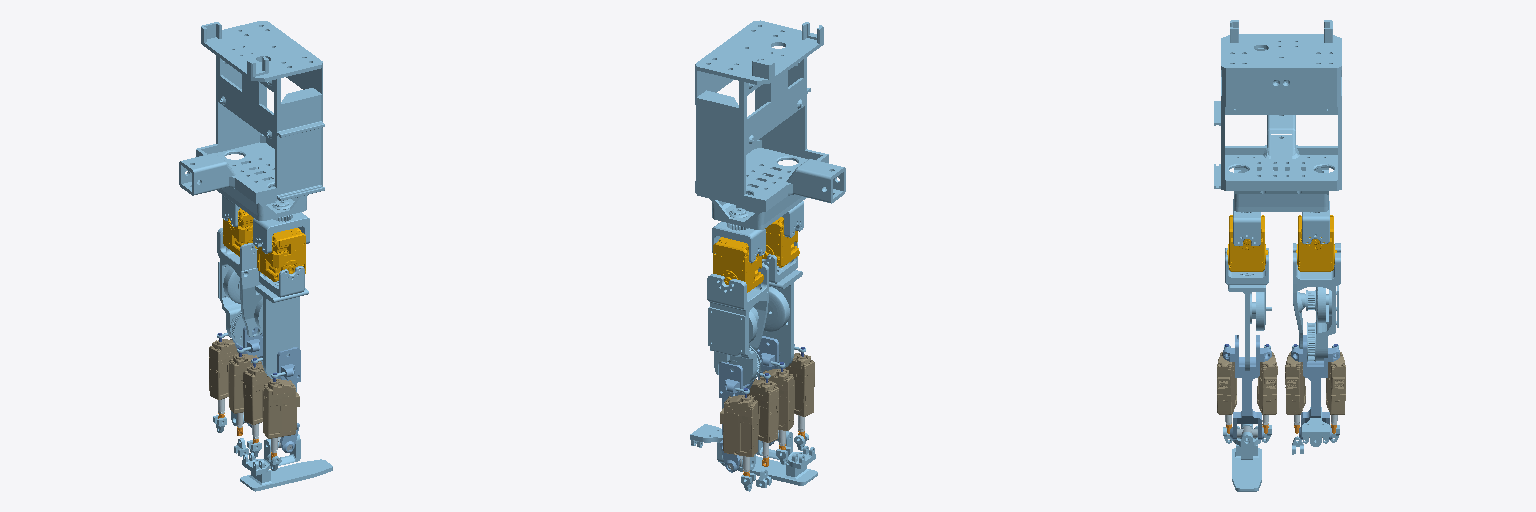
--- What the picture shows (computed from the rendered views, not written in the file) ---
3 views of the same robot in one strip: view 1: azimuth 30°, elevation 25°; view 2: azimuth 150°, elevation 25°; view 3: azimuth 270°, elevation 25° (orthographic).
Model toddlerbot_legs with 37 links and 36 joints (12 revolute, 24 fixed), rooted at body_link, posed all joints at 0.
Links seen in each view (by area): view 1: body_link, right_hip_pitch_link, left_hip_pitch_link, ank_roll_link_2, 12lf_4, hip_roll_link_2, 12lf, 12lf_3, hip_yaw_link_2, right_calf_link, 12lf_2, hip_roll_link; view 2: body_link, left_hip_pitch_link, right_hip_pitch_link, 12lf, hip_roll_link, ank_roll_link_2, 12lf_2, 12lf_4, left_calf_link, hip_roll_link_2, 12lf_3, hip_yaw_link (+3 smaller); view 3: body_link, left_hip_pitch_link, right_hip_pitch_link, right_calf_link, ank_roll_link_2, left_calf_link, hip_roll_link, hip_roll_link_2, 12lf_4, 12lf_2, 12lf, 12lf_3 (+3 smaller).
Link boxes in pixels (x1,y1,x2,y2): body_link: (179, 21, 324, 221); right_hip_pitch_link: (254, 266, 308, 378); left_hip_pitch_link: (217, 228, 262, 345); ank_roll_link_2: (240, 434, 332, 491); 12lf_4: (263, 379, 299, 438); hip_roll_link_2: (257, 228, 305, 281); 12lf: (209, 339, 238, 399); 12lf_3: (243, 364, 272, 424); hip_yaw_link_2: (253, 212, 309, 253); right_calf_link: (262, 347, 300, 452); 12lf_2: (229, 354, 261, 413); hip_roll_link: (223, 208, 256, 256); body_link: (695, 20, 845, 230); left_hip_pitch_link: (707, 264, 768, 385); right_hip_pitch_link: (762, 242, 802, 368); 12lf: (720, 395, 757, 456); hip_roll_link: (713, 237, 763, 292); ank_roll_link_2: (721, 431, 817, 485); 12lf_2: (747, 379, 778, 442); 12lf_4: (785, 353, 814, 416); left_calf_link: (719, 362, 753, 472); hip_roll_link_2: (762, 217, 799, 267); 12lf_3: (760, 369, 793, 430); hip_yaw_link: (712, 221, 765, 262); body_link: (1214, 20, 1341, 212); left_hip_pitch_link: (1293, 243, 1340, 361); right_hip_pitch_link: (1225, 248, 1271, 370); right_calf_link: (1223, 335, 1271, 439); ank_roll_link_2: (1232, 424, 1261, 491); left_calf_link: (1291, 335, 1339, 439); hip_roll_link: (1296, 215, 1336, 271); hip_roll_link_2: (1227, 215, 1267, 271); 12lf_4: (1217, 352, 1236, 414); 12lf_2: (1285, 352, 1305, 414); 12lf: (1326, 352, 1345, 414); 12lf_3: (1257, 352, 1277, 414).
Bounding box of the posed robot: 0.1434 × 0.1313 × 0.4708 m (x, y, z).
Meshes: 37 distinct files referenced, 37 mesh visuals loaded (37 binary STL).

robot.urdf — toddlerbot_legs:
<robot name="toddlerbot_legs">
  <mujoco>
    <compiler strippath="false" balanceinertia="true" discardvisual="false" />
  </mujoco>
  <link name="body_link">
    <visual>
      <origin xyz="0 0 0" rpy="0 -0 0" />
      <geometry>
        <mesh filename="../assemblies/no_body/meshes/body_link_visual.stl" />
      </geometry>
      <material name="body_link_material">
        <color rgba="0.61397237829351869465 0.80332498114502748354 0.91540927344620071082 1.0" />
      </material>
    </visual>
    <collision>
      <origin xyz="0 0 0" rpy="0 -0 0" />
      <geometry>
        <mesh filename="collisions/body_link_collision.stl" />
      </geometry>
    </collision>
    <inertial>
      <origin xyz="-0.01499364327886279491 -0.00061666227763491530088 0.37865534467571948518" rpy="0 0 0" />
      <mass value="1.0086534506317459403" />
      <inertia ixx="0.0046858218276694544105" ixy="9.5066545070522087891e-06" ixz="-0.00033041186495409415264" iyy="0.0039734105446477419737" iyz="-2.4960818033478732468e-05" izz="0.0024171325638287608113" />
    </inertial>
  </link>

  <joint name="left_hip_yaw" type="revolute">
    <origin xyz="-0.0093999999999961926511 0.033999999999999301614 0.28500000000000003109" rpy="9.5014891068790173158e-14 -1.7824800733959379972e-14 -7.7962407392327512346e-15" />
    <parent link="body_link" />
    <child link="hip_yaw_link" />
    <axis xyz="0 0 1" />
    <limit effort="10" velocity="20" lower="-0.785398163397448279" upper="0.785398163397448279" />
    <dynamics damping="0.967" friction="0.1386" />
  </joint>

  <joint name="right_hip_yaw" type="revolute">
    <origin xyz="-0.009399999999996381736 -0.034000000000000807354 0.28499999999999969802" rpy="9.1462148145194911492e-14 -1.7824800733940560906e-14 -2.1356041234847096424e-13" />
    <parent link="body_link" />
    <child link="hip_yaw_link_2" />
    <axis xyz="0 0 1" />
    <limit effort="10" velocity="20" lower="-0.785398163397448279" upper="0.785398163397448279" />
    <dynamics damping="0.967" friction="0.1386" />
  </joint>


  <link name="hip_yaw_link">
    <visual>
      <origin xyz="0 0 0" rpy="0 -0 0" />
      <geometry>
        <mesh filename="../assemblies/left_3R+RH5_leg/meshes/left_hip_yaw_link_visual.stl" />
      </geometry>
      <material name="hip_yaw_link_material">
        <color rgba="0.61568627450980395466 0.81176470588235294379 0.9294117647058824927 1.0" />
      </material>
    </visual>
    <inertial>
      <origin xyz="1.10948197233704379e-18 -1.4747449291869228925e-20 -0.0098390489054830162358" rpy="0 0 0" />
      <mass value="0.0090258837370979227988" />
      <inertia ixx="1.3230458239086465149e-06" ixy="-3.3592249637948231893e-24" ixz="-1.1251788840973426872e-52" iyy="3.8408510960331422723e-06" iyz="2.3044956050358332095e-34" izz="3.8721396285793907821e-06" />
    </inertial>
  </link>

  <link name="hip_roll_link">
    <visual>
      <origin xyz="0 0 0" rpy="0 -0 0" />
      <geometry>
        <mesh filename="../assemblies/left_3R+RH5_leg/meshes/left_hip_roll_link_visual.stl" />
      </geometry>
      <material name="hip_roll_link_material">
        <color rgba="0.95018735644455876166 0.70678927200428409705 0.06161207940259672694 1.0" />
      </material>
    </visual>
    <collision>
      <origin xyz="0 0 0" rpy="0 -0 0" />
      <geometry>
        <mesh filename="collisions/left_hip_roll_link_collision.stl" />
      </geometry>
    </collision>
    <inertial>
      <origin xyz="-0.011999849582183506197 -0.0004959809079445483531 -0.018504111838591498496" rpy="0 0 0" />
      <mass value="0.098012391483528651936" />
      <inertia ixx="2.0221748766305362103e-05" ixy="-4.1225592188065617198e-08" ixz="-4.1552068246469907337e-08" iyy="2.735806952472204714e-05" iyz="-5.0935731752410196502e-07" izz="2.735809995830597023e-05" />
    </inertial>
  </link>

  <link name="left_hip_pitch_link">
    <visual>
      <origin xyz="0 0 0" rpy="0 -0 0" />
      <geometry>
        <mesh filename="../assemblies/left_3R+RH5_leg/meshes/left_hip_pitch_link_visual.stl" />
      </geometry>
      <material name="left_hip_pitch_link_material">
        <color rgba="0.6165406003152082981 0.80727949540398069583 0.92172283245724406786 1.0" />
      </material>
    </visual>
    <collision>
      <origin xyz="0 0 0" rpy="0 -0 0" />
      <geometry>
        <mesh filename="collisions/left_hip_pitch_link_collision.stl" />
      </geometry>
    </collision>
    <inertial>
      <origin xyz="-0.00021920258110594894327 0.05286719657360781921 0.014675228964508648527" rpy="0 0 0" />
      <mass value="0.093611654200831312389" />
      <inertia ixx="6.2575071270170513796e-05" ixy="4.2811371494834821184e-07" ixz="-1.5082939311367743614e-07" iyy="2.1582115763274171131e-05" iyz="-1.4343483800239936136e-06" izz="6.2291646982280619903e-05" />
    </inertial>
  </link>

  <link name="left_calf_link">
    <visual>
      <origin xyz="0 0 0" rpy="0 -0 0" />
      <geometry>
        <mesh filename="../assemblies/left_3R+RH5_leg/meshes/left_calf_link_visual.stl" />
      </geometry>
      <material name="left_calf_link_material">
        <color rgba="0.5518539491644144368 0.72972232177803997288 0.87665656864243635127 1.0" />
      </material>
    </visual>
    <collision>
      <origin xyz="0 0 0" rpy="0 -0 0" />
      <geometry>
        <mesh filename="collisions/left_calf_link_collision.stl" />
      </geometry>
    </collision>
    <inertial>
      <origin xyz="-0.0038993024960581375987 -0.042419338531024676497 0.0081864888082305280886" rpy="0 0 0" />
      <mass value="0.015782434194230747504" />
      <inertia ixx="1.4745030589956152988e-05" ixy="-2.0221927128075060177e-07" ixz="8.9866943649239635101e-09" iyy="1.8970750490643131249e-06" iyz="1.7803237244175249917e-08" izz="1.4045051134993881761e-05" />
    </inertial>
  </link>

  <link name="ank_pitch_link">
    <visual>
      <origin xyz="0 0 0" rpy="0 -0 0" />
      <geometry>
        <mesh filename="../assemblies/left_3R+RH5_leg/meshes/left_ank_pitch_link_visual.stl" />
      </geometry>
      <material name="ank_pitch_link_material">
        <color rgba="0.63189161126160275916 0.72668668793540891482 0.78356373393969258601 1.0" />
      </material>
    </visual>
    <inertial>
      <origin xyz="4.026968510017828702e-08 0.00059528282566723481582 -0.014599922383890413802" rpy="0 0 0" />
      <mass value="0.0042238381753791605713" />
      <inertia ixx="4.370525406739006983e-07" ixy="1.6834347249770690916e-13" ixz="1.642882239843461889e-12" iyy="3.9782741364650800388e-07" iyz="2.091924400200778153e-14" izz="8.8858574534559480418e-08" />
    </inertial>
  </link>

  <link name="ank_roll_link">
    <visual>
      <origin xyz="0 0 0" rpy="0 -0 0" />
      <geometry>
        <mesh filename="../assemblies/left_3R+RH5_leg/meshes/left_ank_roll_link_visual.stl" />
      </geometry>
      <material name="ank_roll_link_material">
        <color rgba="0.61568627450980395466 0.81176470588235294379 0.92941176470588238168 1.0" />
      </material>
    </visual>
    <collision>
      <origin xyz="0 0 0" rpy="0 -0 0" />
      <geometry>
        <mesh filename="../assemblies/left_3R+RH5_leg/meshes/left_ank_roll_link_collision.stl" />
      </geometry>
    </collision>
    <inertial>
      <origin xyz="-3.2802577105233733705e-07 0.028922633965180369331 0.0017500478240274539282" rpy="0 0 0" />
      <mass value="0.013974994209528749517" />
      <inertia ixx="1.0212114188424671225e-05" ixy="2.6491564884490763232e-11" ixz="-3.3865984334665517738e-11" iyy="9.7374672793563848158e-06" iyz="-1.1464163905345513743e-06" izz="2.7373100775715029295e-06" />
    </inertial>
  </link>

  <link name="ank_rr_link">
    <visual>
      <origin xyz="0 0 0" rpy="0 -0 0" />
      <geometry>
        <mesh filename="../assemblies/left_3R+RH5_leg/meshes/left_ank_rr_link_visual.stl" />
      </geometry>
      <material name="ank_rr_link_material">
        <color rgba="0.61568627450980395466 0.81176470588235283277 0.92941176470588238168 1.0" />
      </material>
    </visual>
    <inertial>
      <origin xyz="3.4099664995694346149e-18 -0.0061447686137497906783 1.9876344963298898127e-19" rpy="0 0 0" />
      <mass value="0.00042507093693768156772" />
      <inertia ixx="8.7843229279236022739e-09" ixy="9.2395644930576724516e-27" ixz="-1.0879024114909492282e-14" iyy="8.0301730481463886798e-09" iyz="1.2159468208298068424e-33" izz="1.2504379836120061674e-08" />
    </inertial>
  </link>

  <link name="12lf_rod_end">
    <visual>
      <origin xyz="0 0 0" rpy="0 -0 0" />
      <geometry>
        <mesh filename="../assemblies/left_3R+RH5_leg/meshes/left_12lf_rod_end_visual.stl" />
      </geometry>
      <material name="12lf_rod_end_material">
        <color rgba="0.92771758928836534075 0.61049283053223002415 0.2184765849058516729 1.0" />
      </material>
    </visual>
    <inertial>
      <origin xyz="-4.4735197461788878331e-11 -0.0038422185938245751249 6.4384187209446181173e-06" rpy="0 0 0" />
      <mass value="0.00085420491177815905965" />
      <inertia ixx="1.1840985264406837025e-08" ixy="2.0225977863212776003e-16" ixz="-9.2606419976881419213e-16" iyy="3.3549621576797694134e-09" iyz="7.4535631381847453943e-12" izz="1.2703522254420009704e-08" />
    </inertial>
  </link>

  <joint name="left_ank_R21" type="fixed">
    <origin xyz="6.9388939039072283776e-18 -0.0099999999999999533706 0" rpy="1.5707963267999907053 -1.5664147454868477816 -1.5707963267999944801" />
    <parent link="ank_rr_link" />
    <child link="12lf_rod_end" />
    <axis xyz="0 0 1" />
    <limit effort="10" velocity="20" lower="-1.570796326794896558" upper="1.570796326794896558" />
  </joint>

  <joint name="left_ank_R11" type="fixed">
    <origin xyz="-0.018000000000000009048 0.015999999999999986455 -0.020599999999999996786" rpy="7.372266899210394361e-15 1.2457991987000034509e-14 -0.018779262484739548539" />
    <parent link="ank_roll_link" />
    <child link="ank_rr_link" />
    <axis xyz="0 0 1" />
    <limit effort="10" velocity="20" lower="-1.570796326794896558" upper="1.570796326794896558" />
  </joint>

  <link name="ank_rr_link_2">
    <visual>
      <origin xyz="0 0 0" rpy="0 -0 0" />
      <geometry>
        <mesh filename="../assemblies/left_3R+RH5_leg/meshes/left_ank_rr_link_2_visual.stl" />
      </geometry>
      <material name="ank_rr_link_2_material">
        <color rgba="0.61568627450980395466 0.81176470588235283277 0.92941176470588238168 1.0" />
      </material>
    </visual>
    <inertial>
      <origin xyz="-5.2731046575155459729e-20 -0.0061447686137497915457 1.9876344963294454044e-19" rpy="0 0 0" />
      <mass value="0.00042507093693768156772" />
      <inertia ixx="8.7843229279236022739e-09" ixy="-1.9930731724410727403e-26" ixz="-1.0879024114909492282e-14" iyy="8.0301730481463919886e-09" iyz="2.6418116530504380233e-32" izz="1.2504379836120061674e-08" />
    </inertial>
  </link>

  <link name="12lf_rod_end_2">
    <visual>
      <origin xyz="0 0 0" rpy="0 -0 0" />
      <geometry>
        <mesh filename="../assemblies/left_3R+RH5_leg/meshes/left_12lf_rod_end_2_visual.stl" />
      </geometry>
      <material name="12lf_rod_end_2_material">
        <color rgba="0.92771758928836534075 0.61049283053223002415 0.2184765849058516729 1.0" />
      </material>
    </visual>
    <inertial>
      <origin xyz="-4.4735200137138648835e-11 -0.0038422185938246011458 6.4384187209440810984e-06" rpy="0 0 0" />
      <mass value="0.00085420491177815905965" />
      <inertia ixx="1.1840985264406790703e-08" ixy="2.022597794602806683e-16" ixz="-9.2606419945989251455e-16" iyy="3.3549621576797272272e-09" iyz="7.4535631381828438483e-12" izz="1.2703522254419978271e-08" />
    </inertial>
  </link>

  <joint name="left_ank_R22" type="fixed">
    <origin xyz="-3.4694469519536141888e-18 -0.0099999999999999533706 6.9388939039072283776e-18" rpy="-1.570796326795200093 -1.5664376509758415335 1.5707963267972691046" />
    <parent link="ank_rr_link_2" />
    <child link="12lf_rod_end_2" />
    <axis xyz="0 0 1" />
    <limit effort="10" velocity="20" lower="-1.570796326794896558" upper="1.570796326794896558" />
  </joint>

  <joint name="left_ank_R12" type="fixed">
    <origin xyz="0.017999999999999991701 0.015999999999999986455 -0.020600000000000003725" rpy="3.1415926535897837901 5.7200784449866098119e-15 -3.1229304365178514047" />
    <parent link="ank_roll_link" />
    <child link="ank_rr_link_2" />
    <axis xyz="0 0 1" />
    <limit effort="10" velocity="20" lower="-1.570796326794896558" upper="1.570796326794896558" />
  </joint>

  <joint name="left_ank_roll" type="revolute">
    <origin xyz="3.0808688933348093997e-15 0.00150000000000412065 -0.014599999999997594069" rpy="-1.5707963267949904829 -1.5707963267947890884 0" />
    <parent link="ank_pitch_link" />
    <child link="ank_roll_link" />
    <axis xyz="0 0 1" />
    <limit effort="10" velocity="20" lower="-0.785398163397448279" upper="0.785398163397448279" />
    <dynamics damping="0.583" />
  </joint>

  <joint name="left_ank_pitch" type="revolute">
    <origin xyz="9.1041832417877273971e-19 -0.099999999999999977796 -0.0062000000000000006495" rpy="3.1415926535897913396 3.2973623831365823964e-14 -1.5707963267949118791" />
    <parent link="left_calf_link" />
    <child link="ank_pitch_link" />
    <axis xyz="0 0 1" />
    <limit effort="10" velocity="20" lower="-0.785398163397448279" upper="0.95993108859688125456" />
    <dynamics damping="0.523" />
  </joint>

  <link name="ball_joint_container">
    <visual>
      <origin xyz="0 0 0" rpy="0 -0 0" />
      <geometry>
        <mesh filename="../assemblies/left_3R+RH5_leg/meshes/left_ball_joint_container_visual.stl" />
      </geometry>
      <material name="ball_joint_container_material">
        <color rgba="0.61568627450980395466 0.81176470588235294379 0.9294117647058824927 1.0" />
      </material>
    </visual>
    <inertial>
      <origin xyz="4.722144297570993535e-19 -1.3170636881708645367e-19 -0.0097125341669083396778" rpy="0 0 0" />
      <mass value="4.8037356425330562243e-05" />
      <inertia ixx="7.1865480628741666366e-10" ixy="1.5073670243190848269e-27" ixz="-1.2986299746004074171e-40" iyy="8.475420427718555978e-10" iyz="8.2465578470855891955e-39" izz="1.8625314111651911712e-10" />
    </inertial>
  </link>

  <link name="ball_joint_ball">
    <visual>
      <origin xyz="0 0 0" rpy="0 -0 0" />
      <geometry>
        <mesh filename="../assemblies/left_3R+RH5_leg/meshes/left_ball_joint_ball_visual.stl" />
      </geometry>
      <material name="ball_joint_ball_material">
        <color rgba="0.3291302810242056065 0.44310466418644928188 0.69204871161977121741 1.0" />
      </material>
    </visual>
    <inertial>
      <origin xyz="-1.6430372793130515128e-19 -0.0010308669810015407085 -4.0999987757038908845e-18" rpy="0 0 0" />
      <mass value="4.4053796295264630609e-05" />
      <inertia ixx="3.1285011349691274394e-10" ixy="-2.0899298178486533495e-27" ixz="-8.5615105329201482222e-27" iyy="6.2569568612793382078e-11" iyz="8.404326343174790715e-25" izz="3.1285321460374022494e-10" />
    </inertial>
  </link>

  <link name="12lf">
    <visual>
      <origin xyz="0 0 0" rpy="0 -0 0" />
      <geometry>
        <mesh filename="../assemblies/left_3R+RH5_leg/meshes/left_12lf_visual.stl" />
      </geometry>
      <material name="12lf_material">
        <color rgba="0.62004392100736027693 0.58836684613512635345 0.49897069021535683797 1.0" />
      </material>
    </visual>
    <inertial>
      <origin xyz="0.0049084207243738318949 -0.00013802439943632547866 -0.029947003577167913974" rpy="0 0 0" />
      <mass value="0.044782197696050358993" />
      <inertia ixx="1.5260128421328397519e-05" ixy="2.2955773687010726143e-08" ixz="-8.1364204004619861992e-08" iyy="1.818846977897047769e-05" iyz="-5.5542240843365280421e-08" izz="5.1496273901771792196e-06" />
    </inertial>
  </link>

  <link name="12lf_rod">
    <visual>
      <origin xyz="0 0 0" rpy="0 -0 0" />
      <geometry>
        <mesh filename="../assemblies/left_3R+RH5_leg/meshes/left_12lf_rod_visual.stl" />
      </geometry>
      <material name="12lf_rod_material">
        <color rgba="0.80250260812861884396 0.89340612183512713163 0.94491811293548189088 1.0" />
      </material>
    </visual>
    <inertial>
      <origin xyz="-6.3222084039857236818e-07 4.6933255243327257339e-07 -0.012893387334326454619" rpy="0 0 0" />
      <mass value="0.0025088292483592144512" />
      <inertia ixx="2.6944521128634527092e-07" ixy="7.1389570232101606794e-15" ixz="1.3562243134670508323e-11" iyy="2.6944520001691072088e-07" iyz="-1.0089988404311650457e-11" izz="1.7809843599861018872e-08" />
    </inertial>
  </link>

  <joint name="left_ank_act1" type="fixed">
    <origin xyz="2.272209352376791669e-06 3.4694469519536141888e-16 -0.074779998095385435963" rpy="-3.1415926535896594451 8.836582611277305623e-14 -2.2021168238262687211" />
    <parent link="12lf" />
    <child link="12lf_rod" />
    <axis xyz="0 0 1" />
    <limit effort="10" velocity="20" lower="0" upper="0.040000000000000000833" />
  </joint>

  <joint name="left_ank_B31" type="fixed">
    <origin xyz="3.4694469519536141888e-18 -0.0064387505004001588382 -2.0816681711721685133e-17" rpy="-1.5707963267948947816 0.16913440034089716191 -5.6137304953543511113e-16" />
    <parent link="ball_joint_ball" />
    <child link="12lf" />
    <axis xyz="0 0 1" />
    <limit effort="10" velocity="20" lower="-0.785398163397448279" upper="0.785398163397448279" />
  </joint>

  <joint name="left_ank_B21" type="fixed">
    <origin xyz="-2.3592239273284576484e-16 0 -0.011499999999999998071" rpy="-1.5707963267921956074 -1.5664147454872743292 -1.5707963267976534638" />
    <parent link="ball_joint_container" />
    <child link="ball_joint_ball" />
    <axis xyz="0 0 1" />
    <limit effort="10" velocity="20" lower="-0.785398163397448279" upper="0.785398163397448279" />
  </joint>

  <joint name="left_ank_B11" type="fixed">
    <origin xyz="0.0080000000000000140443 -0.015000000000000041078 0.028299999999999991829" rpy="-1.570796326794896558 1.5520170643096702356 1.5707963267949236474" />
    <parent link="left_calf_link" />
    <child link="ball_joint_container" />
    <axis xyz="0 0 1" />
    <limit effort="10" velocity="20" lower="-0.785398163397448279" upper="0.785398163397448279" />
  </joint>

  <link name="ball_joint_container_2">
    <visual>
      <origin xyz="0 0 0" rpy="0 -0 0" />
      <geometry>
        <mesh filename="../assemblies/left_3R+RH5_leg/meshes/left_ball_joint_container_2_visual.stl" />
      </geometry>
      <material name="ball_joint_container_2_material">
        <color rgba="0.61568627450980395466 0.81176470588235294379 0.9294117647058824927 1.0" />
      </material>
    </visual>
    <inertial>
      <origin xyz="4.7221442975709848683e-19 -5.5642857600074875847e-17 -0.0097125341669083431473" rpy="0 0 0" />
      <mass value="4.8037356425330562243e-05" />
      <inertia ixx="7.1865480628741666366e-10" ixy="4.5696914826368578443e-27" ixz="-1.4147572309371857382e-40" iyy="8.475420427718555978e-10" iyz="-1.9747038838995359871e-38" izz="1.8625314111651911712e-10" />
    </inertial>
  </link>

  <link name="ball_joint_ball_2">
    <visual>
      <origin xyz="0 0 0" rpy="0 -0 0" />
      <geometry>
        <mesh filename="../assemblies/left_3R+RH5_leg/meshes/left_ball_joint_ball_2_visual.stl" />
      </geometry>
      <material name="ball_joint_ball_2_material">
        <color rgba="0.3291302810242056065 0.44310466418644928188 0.69204871161977121741 1.0" />
      </material>
    </visual>
    <inertial>
      <origin xyz="-2.3236895893562296795e-19 -0.0010308669810016014238 6.4827775509755075537e-20" rpy="0 0 0" />
      <mass value="4.4053796295264630609e-05" />
      <inertia ixx="3.1285011349692463466e-10" ixy="1.3539051973757832705e-26" ixz="5.3959041490459282864e-30" iyy="6.2569568612795566352e-11" iyz="-1.5871332946531641882e-27" izz="3.128532146037635928e-10" />
    </inertial>
  </link>

  <link name="12lf_2">
    <visual>
      <origin xyz="0 0 0" rpy="0 -0 0" />
      <geometry>
        <mesh filename="../assemblies/left_3R+RH5_leg/meshes/left_12lf_2_visual.stl" />
      </geometry>
      <material name="12lf_2_material">
        <color rgba="0.62004392100736027693 0.58836684613512635345 0.49897069021535683797 1.0" />
      </material>
    </visual>
    <inertial>
      <origin xyz="0.0049084207243672572929 -0.00013802439943878569602 -0.029947003577168580107" rpy="0 0 0" />
      <mass value="0.044782197696050358993" />
      <inertia ixx="1.5260128421329105638e-05" ixy="2.2955773686919269746e-08" ixz="-8.1364204007394755162e-08" iyy="1.8188469778973503292e-05" iyz="-5.554224084467693741e-08" izz="5.149627390179528889e-06" />
    </inertial>
  </link>

  <link name="12lf_rod_2">
    <visual>
      <origin xyz="0 0 0" rpy="0 -0 0" />
      <geometry>
        <mesh filename="../assemblies/left_3R+RH5_leg/meshes/left_12lf_rod_2_visual.stl" />
      </geometry>
      <material name="12lf_rod_2_material">
        <color rgba="0.80250260812861884396 0.89340612183512713163 0.94491811293548189088 1.0" />
      </material>
    </visual>
    <inertial>
      <origin xyz="-6.3222083717250307532e-07 4.6933255289754562546e-07 -0.012893387334327655047" rpy="0 0 0" />
      <mass value="0.0025088292483592144512" />
      <inertia ixx="2.6944521128627830237e-07" ixy="7.1389569972798120533e-15" ixz="1.3562243038875907425e-11" iyy="2.6944520001684385821e-07" iyz="-1.0089988416517761836e-11" izz="1.7809843599861012255e-08" />
    </inertial>
  </link>

  <joint name="left_ank_act2" type="fixed">
    <origin xyz="2.2722093472628268618e-06 -8.4585116688629113924e-15 -0.074779996992748620777" rpy="-3.1415926535895000171 6.2101951664430066723e-14 -2.2021168238262793793" />
    <parent link="12lf_2" />
    <child link="12lf_rod_2" />
    <axis xyz="0 0 1" />
    <limit effort="10" velocity="20" lower="0" upper="0.040000000000000000833" />
  </joint>

  <joint name="left_ank_B32" type="fixed">
    <origin xyz="-3.4694469519536141888e-18 -0.0064387505004003808828 0" rpy="-1.570796326794896558 -0.17993145005761934652 -1.52442862826419765e-18" />
    <parent link="ball_joint_ball_2" />
    <child link="12lf_2" />
    <axis xyz="0 0 1" />
    <limit effort="10" velocity="20" lower="-0.785398163397448279" upper="0.785398163397448279" />
  </joint>

  <joint name="left_ank_B22" type="fixed">
    <origin xyz="3.4694469519536141888e-18 -1.1102230246251565404e-16 -0.01150000000000000154" rpy="-1.570796326794896558 -1.5664376509753994426 1.5707963267946438712" />
    <parent link="ball_joint_container_2" />
    <child link="ball_joint_ball_2" />
    <axis xyz="0 0 1" />
    <limit effort="10" velocity="20" lower="-0.785398163397448279" upper="0.785398163397448279" />
  </joint>

  <joint name="left_ank_B12" type="fixed">
    <origin xyz="0.0080000000000000019013 -0.014999999999999985567 -0.011499999999999999806" rpy="-1.570796326794896558 -1.5521341097218652738 1.5707963267948228392" />
    <parent link="left_calf_link" />
    <child link="ball_joint_container_2" />
    <axis xyz="0 0 1" />
    <limit effort="10" velocity="20" lower="-0.785398163397448279" upper="0.785398163397448279" />
  </joint>

  <joint name="left_knee" type="revolute">
    <origin xyz="-9.0379327827951061674e-15 0.095999999999999793832 0.027400000000001221989" rpy="3.1415926535896594451 -8.0881482058163985808e-17 -1.573475576799148449e-15" />
    <parent link="left_hip_pitch_link" />
    <child link="left_calf_link" />
    <axis xyz="0 0 1" />
    <limit effort="10" velocity="20" lower="0" upper="1.570796326794896558" />
    <dynamics damping="1.142" />
  </joint>

  <joint name="left_hip_pitch" type="revolute">
    <origin xyz="-0.024000000716140019313 -0.019000000152447748397 -0.019000000152447786561" rpy="-1.570796326794896336 1.5707963267947404606 0" />
    <parent link="hip_roll_link" />
    <child link="left_hip_pitch_link" />
    <axis xyz="0 0 1" />
    <limit effort="10" velocity="20" lower="-1.570796326794896558" upper="1.570796326794896558" />
    <dynamics damping="1.286" />
  </joint>

  <joint name="left_hip_roll" type="revolute">
    <origin xyz="0.019000000000000304839 -3.3624037938337684222e-18 -0.026000000000000279832" rpy="3.141592653589793116 -1.5707963267948858999 0" />
    <parent link="hip_yaw_link" />
    <child link="hip_roll_link" />
    <axis xyz="0 0 1" />
    <limit effort="10" velocity="20" lower="-0.785398163397448279" upper="1.570796326794896558" />
    <dynamics damping="3.122" />
  </joint>


  <link name="hip_yaw_link_2">
    <visual>
      <origin xyz="0 0 0" rpy="0 -0 0" />
      <geometry>
        <mesh filename="../assemblies/right_3R+RH5_leg/meshes/right_hip_yaw_link_visual.stl" />
      </geometry>
      <material name="hip_yaw_link_material">
        <color rgba="0.61568627450980395466 0.81176470588235294379 0.9294117647058824927 1.0" />
      </material>
    </visual>
    <inertial>
      <origin xyz="1.1094819723304576874e-18 -1.4747449291575112339e-20 -0.0098390489054829121524" rpy="0 0 0" />
      <mass value="0.0090258837370979227988" />
      <inertia ixx="1.3230458239085876461e-06" ixy="-9.6363174149195438067e-49" ixz="2.5822652061387307278e-33" iyy="3.8408510960330541809e-06" iyz="-1.4423493090974203298e-32" izz="3.8721396285793077728e-06" />
    </inertial>
  </link>

  <link name="hip_roll_link_2">
    <visual>
      <origin xyz="0 0 0" rpy="0 -0 0" />
      <geometry>
        <mesh filename="../assemblies/right_3R+RH5_leg/meshes/right_hip_roll_link_visual.stl" />
      </geometry>
      <material name="hip_roll_link_material">
        <color rgba="0.95018735644455876166 0.70678927200428409705 0.06161207940259672694 1.0" />
      </material>
    </visual>
    <collision>
      <origin xyz="0 0 0" rpy="0 -0 0" />
      <geometry>
        <mesh filename="collisions/right_hip_roll_link_collision.stl" />
      </geometry>
    </collision>
    <inertial>
      <origin xyz="-0.011999849582182727306 -0.00049598090794501390952 -0.018504111838591762174" rpy="0 0 0" />
      <mass value="0.098012391483528651936" />
      <inertia ixx="2.02217487663054773e-05" ixy="-4.1225592187651471026e-08" ixz="-4.1552068246492221361e-08" iyy="2.735806952472197599e-05" iyz="-5.0935731752407962452e-07" izz="2.7358099958306159966e-05" />
    </inertial>
  </link>

  <link name="right_hip_pitch_link">
    <visual>
      <origin xyz="0 0 0" rpy="0 -0 0" />
      <geometry>
        <mesh filename="../assemblies/right_3R+RH5_leg/meshes/right_hip_pitch_link_visual.stl" />
      </geometry>
      <material name="right_hip_pitch_link_material">
        <color rgba="0.61654060031870661085 0.8072794953856136102 0.92172283242575780982 1.0" />
      </material>
    </visual>
    <collision>
      <origin xyz="0 0 0" rpy="0 -0 0" />
      <geometry>
        <mesh filename="collisions/right_hip_pitch_link_collision.stl" />
      </geometry>
    </collision>
    <inertial>
      <origin xyz="-1.3033690427602677005e-05 -0.052867196495286906954 0.023324771095030935597" rpy="0 0 0" />
      <mass value="0.09361165381749210479" />
      <inertia ixx="6.2575072115421317281e-05" ixy="2.2341794227176792435e-07" ixz="1.1676158767092474657e-08" iyy="2.1586598259275086508e-05" iyz="-1.4343483925993869498e-06" izz="6.2296129928644748664e-05" />
    </inertial>
  </link>

  <link name="right_calf_link">
    <visual>
      <origin xyz="0 0 0" rpy="0 -0 0" />
      <geometry>
        <mesh filename="../assemblies/right_3R+RH5_leg/meshes/right_calf_link_visual.stl" />
      </geometry>
      <material name="right_calf_link_material">
        <color rgba="0.55183757703855651489 0.72973662124660387818 0.87669617832525115197 1.0" />
      </material>
    </visual>
    <collision>
      <origin xyz="0 0 0" rpy="0 -0 0" />
      <geometry>
        <mesh filename="collisions/right_calf_link_collision.stl" />
      </geometry>
    </collision>
    <inertial>
      <origin xyz="-0.0038999626430269085028 0.042409395322589235611 0.0081838728113180578966" rpy="0 0 0" />
      <mass value="0.015779725212993939848" />
      <inertia ixx="1.4735397719668421088e-05" ixy="2.0283446246059693902e-07" ixz="9.1508417303722038378e-09" iyy="1.8964180016897424611e-06" iyz="-1.5463243486048329172e-08" izz="1.4035958490016414588e-05" />
    </inertial>
  </link>

  <link name="ank_pitch_link_2">
    <visual>
      <origin xyz="0 0 0" rpy="0 -0 0" />
      <geometry>
        <mesh filename="../assemblies/right_3R+RH5_leg/meshes/right_ank_pitch_link_visual.stl" />
      </geometry>
      <material name="ank_pitch_link_material">
        <color rgba="0.63189161126160275916 0.72668668793540891482 0.78356373393969258601 1.0" />
      </material>
    </visual>
    <inertial>
      <origin xyz="4.0269686744046064311e-08 0.0005952828256677747485 -0.014599922383890096347" rpy="0 0 0" />
      <mass value="0.0042238381753791605713" />
      <inertia ixx="4.3705254067390763339e-07" ixy="1.6834347123503678247e-13" ixz="1.6428822925662319172e-12" iyy="3.9782741364654897909e-07" iyz="2.091920170560600146e-14" izz="8.8858574534525519691e-08" />
    </inertial>
  </link>

  <link name="ank_roll_link_2">
    <visual>
      <origin xyz="0 0 0" rpy="0 -0 0" />
      <geometry>
        <mesh filename="../assemblies/right_3R+RH5_leg/meshes/right_ank_roll_link_visual.stl" />
      </geometry>
      <material name="ank_roll_link_material">
        <color rgba="0.61568627450980395466 0.81176470588235305481 0.92941176470588238168 1.0" />
      </material>
    </visual>
    <collision>
      <origin xyz="0 0 0" rpy="0 -0 0" />
      <geometry>
        <mesh filename="../assemblies/right_3R+RH5_leg/meshes/right_ank_roll_link_collision.stl" />
      </geometry>
    </collision>
    <inertial>
      <origin xyz="-1.7281349848514604191e-07 0.028922633802874186948 0.0017501343014607161769" rpy="0 0 0" />
      <mass value="0.013974995537312767668" />
      <inertia ixx="1.0212111185421585496e-05" ixy="2.0476240133048706539e-11" ixz="-5.6455705812461185897e-11" iyy="9.7374705570554639e-06" iyz="-1.1464250625723700305e-06" izz="2.7373162145496292839e-06" />
    </inertial>
  </link>

  <link name="ank_rr_link_3">
    <visual>
      <origin xyz="0 0 0" rpy="0 -0 0" />
      <geometry>
        <mesh filename="../assemblies/right_3R+RH5_leg/meshes/right_ank_rr_link_visual.stl" />
      </geometry>
      <material name="ank_rr_link_material">
        <color rgba="0.61568627450980395466 0.81176470588235283277 0.92941176470588238168 1.0" />
      </material>
    </visual>
    <inertial>
      <origin xyz="-6.772719868553408757e-20 -0.0061447686137497915457 3.6682104015863762715e-18" rpy="0 0 0" />
      <mass value="0.00042507093693768156772" />
      <inertia ixx="8.7843229279236022739e-09" ixy="-1.5864380896313781037e-26" ixz="-1.0879024114909492282e-14" iyy="8.0301730481463919886e-09" iyz="4.5653393820902673925e-32" izz="1.2504379836120061674e-08" />
    </inertial>
  </link>

  <link name="12lf_rod_end_3">
    <visual>
      <origin xyz="0 0 0" rpy="0 -0 0" />
      <geometry>
        <mesh filename="../assemblies/right_3R+RH5_leg/meshes/right_12lf_rod_end_visual.stl" />
      </geometry>
      <material name="12lf_rod_end_material">
        <color rgba="0.92771758928836534075 0.61049283053223002415 0.2184765849058516729 1.0" />
      </material>
    </visual>
    <inertial>
      <origin xyz="-4.4735196695610147617e-11 -0.0038422185938245959416 6.4384187209476411779e-06" rpy="0 0 0" />
      <mass value="0.00085420491177815905965" />
      <inertia ixx="1.1840985264406750998e-08" ixy="2.0225977936654380285e-16" ixz="-9.2606419961864584135e-16" iyy="3.3549621576796866954e-09" iyz="7.4535631381826499778e-12" izz="1.2703522254419963381e-08" />
    </inertial>
  </link>

  <joint name="right_ank_R21" type="fixed">
    <origin xyz="-3.4694469519536141888e-18 -0.010000000000000008882 1.0408340855860842566e-17" rpy="1.5707963267949234254 -1.5664147454868782017 -1.5707963267941609242" />
    <parent link="ank_rr_link_3" />
    <child link="12lf_rod_end_3" />
    <axis xyz="0 0 1" />
    <limit effort="10" velocity="20" lower="-1.570796326794896558" upper="1.570796326794896558" />
  </joint>

  <joint name="right_ank_R11" type="fixed">
    <origin xyz="-0.018000000000000009048 0.015999999999999986455 -0.020599999999999996786" rpy="2.1199056220120536536e-16 1.7337184392140691041e-15 -0.018779262484772244607" />
    <parent link="ank_roll_link_2" />
    <child link="ank_rr_link_3" />
    <axis xyz="0 0 1" />
    <limit effort="10" velocity="20" lower="-1.570796326794896558" upper="1.570796326794896558" />
  </joint>

  <link name="ank_rr_link_4">
    <visual>
      <origin xyz="0 0 0" rpy="0 -0 0" />
      <geometry>
        <mesh filename="../assemblies/right_3R+RH5_leg/meshes/right_ank_rr_link_2_visual.stl" />
      </geometry>
      <material name="ank_rr_link_2_material">
        <color rgba="0.61568627450980395466 0.81176470588235283277 0.92941176470588238168 1.0" />
      </material>
    </visual>
    <inertial>
      <origin xyz="-4.2895092296414386899e-20 -0.0061447686137497360345 -3.2706835023203394236e-18" rpy="0 0 0" />
      <mass value="0.00042507093693768156772" />
      <inertia ixx="8.7843229279236022739e-09" ixy="5.711362133931313441e-27" ixz="-1.0879024114909492282e-14" iyy="8.0301730481463919886e-09" iyz="-2.1258676875356141517e-32" izz="1.2504379836120061674e-08" />
    </inertial>
  </link>

  <link name="12lf_rod_end_4">
    <visual>
      <origin xyz="0 0 0" rpy="0 -0 0" />
      <geometry>
        <mesh filename="../assemblies/right_3R+RH5_leg/meshes/right_12lf_rod_end_2_visual.stl" />
      </geometry>
      <material name="12lf_rod_end_2_material">
        <color rgba="0.92771758928836534075 0.61049283053223002415 0.2184765849058516729 1.0" />
      </material>
    </visual>
    <inertial>
      <origin xyz="-4.473519593544271936e-11 -0.0038422185938245699208 6.4384187209475590157e-06" rpy="0 0 0" />
      <mass value="0.00085420491177815905965" />
      <inertia ixx="1.1840985264406777468e-08" ixy="2.0225978027478046506e-16" ixz="-9.260641977021974134e-16" iyy="3.3549621576797024118e-09" iyz="7.4535631381828147677e-12" izz="1.2703522254419948492e-08" />
    </inertial>
  </link>

  <joint name="right_ank_R22" type="fixed">
    <origin xyz="-3.4694469519536141888e-18 -0.0099999999999998978595 1.0408340855860842566e-17" rpy="-1.570796326794896336 -1.5664376509751398725 1.5707963267966709164" />
    <parent link="ank_rr_link_4" />
    <child link="12lf_rod_end_4" />
    <axis xyz="0 0 1" />
    <limit effort="10" velocity="20" lower="-1.570796326794896558" upper="1.570796326794896558" />
  </joint>

  <joint name="right_ank_R12" type="fixed">
    <origin xyz="0.017999999999999995171 0.015999999999999930944 -0.020600000000000003725" rpy="-3.1415926535897855665 2.3670754779580369231e-15 -3.1229304365172758651" />
    <parent link="ank_roll_link_2" />
    <child link="ank_rr_link_4" />
    <axis xyz="0 0 1" />
    <limit effort="10" velocity="20" lower="-1.570796326794896558" upper="1.570796326794896558" />
  </joint>

  <joint name="right_ank_roll" type="revolute">
    <origin xyz="3.3584246494910985348e-15 0.0015000000000102613543 -0.014599999999994976371" rpy="-1.5707963267951949859 1.5707963267946882802 0" />
    <parent link="ank_pitch_link_2" />
    <child link="ank_roll_link_2" />
    <axis xyz="0 0 1" />
    <limit effort="10" velocity="20" lower="-0.785398163397448279" upper="0.785398163397448279" />
    <dynamics damping="0.583" />
  </joint>

  <joint name="right_ank_pitch" type="revolute">
    <origin xyz="1.3701363056155178809e-18 0.10000000000000000555 -0.0061999999999999243216" rpy="-3.1415926535897917837 8.3351550965154899867e-16 -1.5707963267948104047" />
    <parent link="right_calf_link" />
    <child link="ank_pitch_link_2" />
    <axis xyz="0 0 1" />
    <limit effort="10" velocity="20" lower="-0.785398163397448279" upper="0.95993108859688125456" />
    <dynamics damping="0.523" />
  </joint>

  <link name="ball_joint_container_3">
    <visual>
      <origin xyz="0 0 0" rpy="0 -0 0" />
      <geometry>
        <mesh filename="../assemblies/right_3R+RH5_leg/meshes/right_ball_joint_container_visual.stl" />
      </geometry>
      <material name="ball_joint_container_material">
        <color rgba="0.61568627450980395466 0.81176470588235294379 0.9294117647058824927 1.0" />
      </material>
    </visual>
    <inertial>
      <origin xyz="-2.9972325221965159909e-18 -1.3170636881704331284e-19 -0.0097125341669083414126" rpy="0 0 0" />
      <mass value="4.8037356425330562243e-05" />
      <inertia ixx="7.1865480628741707725e-10" ixy="4.7686823988665461978e-27" ixz="5.1372825832619971272e-40" iyy="8.475420427718555978e-10" iyz="-3.2723433928573531218e-38" izz="1.8625314111651911712e-10" />
    </inertial>
  </link>

  <link name="ball_joint_ball_3">
    <visual>
      <origin xyz="0 0 0" rpy="0 -0 0" />
      <geometry>
        <mesh filename="../assemblies/right_3R+RH5_leg/meshes/right_ball_joint_ball_visual.stl" />
      </geometry>
      <material name="ball_joint_ball_material">
        <color rgba="0.3291302810242056065 0.44310466418644928188 0.69204871161977121741 1.0" />
      </material>
    </visual>
    <inertial>
      <origin xyz="5.9030136108666568905e-18 -0.0010308669810016022911 -7.1252153088828868716e-20" rpy="0 0 0" />
      <mass value="4.4053796295264630609e-05" />
      <inertia ixx="3.1285011349692649581e-10" ixy="5.077154768211529188e-26" ixz="4.6798489160140480731e-26" iyy="6.2569568612795592202e-11" iyz="-1.1895451457969914525e-26" izz="3.1285321460376173164e-10" />
    </inertial>
  </link>

  <link name="12lf_3">
    <visual>
      <origin xyz="0 0 0" rpy="0 -0 0" />
      <geometry>
        <mesh filename="../assemblies/right_3R+RH5_leg/meshes/right_12lf_visual.stl" />
      </geometry>
      <material name="12lf_material">
        <color rgba="0.62004392100736027693 0.58836684613512635345 0.49897069021535683797 1.0" />
      </material>
    </visual>
    <inertial>
      <origin xyz="0.0049084207243678019961 -0.00013802439943444823681 -0.029947003577154806403" rpy="0 0 0" />
      <mass value="0.044782197696050358993" />
      <inertia ixx="1.5260128421318422859e-05" ixy="2.2955773686503350099e-08" ixz="-8.1364204007312129745e-08" iyy="1.8188469778958859786e-05" iyz="-5.5542240842559937377e-08" izz="5.1496273901754478842e-06" />
    </inertial>
  </link>

  <link name="12lf_rod_3">
    <visual>
      <origin xyz="0 0 0" rpy="0 -0 0" />
      <geometry>
        <mesh filename="../assemblies/right_3R+RH5_leg/meshes/right_12lf_rod_visual.stl" />
      </geometry>
      <material name="12lf_rod_material">
        <color rgba="0.80250260812861884396 0.89340612183512713163 0.94491811293548189088 1.0" />
      </material>
    </visual>
    <inertial>
      <origin xyz="-6.3222084100391536949e-07 4.6933255118795287588e-07 -0.012893387334328484245" rpy="0 0 0" />
      <mass value="0.0025088292483592144512" />
      <inertia ixx="2.6944521128623250965e-07" ixy="7.1389570415193793204e-15" ixz="1.3562243150951720143e-11" iyy="2.6944520001679811843e-07" iyz="-1.0089988370044107076e-11" izz="1.7809843599861028799e-08" />
    </inertial>
  </link>

  <joint name="right_ank_act1" type="fixed">
    <origin xyz="2.2722093416596700344e-06 1.9567680809018384025e-15 -0.074779998095380800782" rpy="-3.1415926535897811256 5.9900329378763890994e-15 -2.2021168238260777628" />
    <parent link="12lf_3" />
    <child link="12lf_rod_3" />
    <axis xyz="0 0 1" />
    <limit effort="10" velocity="20" lower="0" upper="0.040000000000000000833" />
  </joint>

  <joint name="right_ank_B31" type="fixed">
    <origin xyz="-3.4694469519536141888e-18 -0.0064387505004003808828 0" rpy="-1.570796326794896558 0.16913440034157123382 1.0478833061949341326e-15" />
    <parent link="ball_joint_ball_3" />
    <child link="12lf_3" />
    <axis xyz="0 0 1" />
    <limit effort="10" velocity="20" lower="-0.785398163397448279" upper="0.785398163397448279" />
  </joint>

  <joint name="right_ank_B21" type="fixed">
    <origin xyz="-3.4694469519536141888e-18 0 -0.011499999999999996336" rpy="-1.5707963267952478326 -1.5664147454871724108 -1.5707963267955875608" />
    <parent link="ball_joint_container_3" />
    <child link="ball_joint_ball_3" />
    <axis xyz="0 0 1" />
    <limit effort="10" velocity="20" lower="-0.785398163397448279" upper="0.785398163397448279" />
  </joint>

  <joint name="right_ank_B11" type="fixed">
    <origin xyz="0.0080000000000000019013 0.014999999999999985567 -0.011500000000000003275" rpy="1.5707963267948470421 -1.5520170643097048746 -1.570796326794996034" />
    <parent link="right_calf_link" />
    <child link="ball_joint_container_3" />
    <axis xyz="0 0 1" />
    <limit effort="10" velocity="20" lower="-0.785398163397448279" upper="0.785398163397448279" />
  </joint>

  <link name="ball_joint_container_4">
    <visual>
      <origin xyz="0 0 0" rpy="0 -0 0" />
      <geometry>
        <mesh filename="../assemblies/right_3R+RH5_leg/meshes/right_ball_joint_container_2_visual.stl" />
      </geometry>
      <material name="ball_joint_container_2_material">
        <color rgba="0.61568627450980395466 0.81176470588235294379 0.9294117647058824927 1.0" />
      </material>
    </visual>
    <inertial>
      <origin xyz="4.7221442975710426462e-19 -1.3170636881703233504e-19 -0.0097125341669083431473" rpy="0 0 0" />
      <mass value="4.8037356425330562243e-05" />
      <inertia ixx="7.1865480628741645687e-10" ixy="2.3082551744305039966e-27" ixz="-1.9591983056907320695e-39" iyy="8.475420427718555978e-10" iyz="4.2854812084784726805e-38" izz="1.8625314111651911712e-10" />
    </inertial>
  </link>

  <link name="ball_joint_ball_4">
    <visual>
      <origin xyz="0 0 0" rpy="0 -0 0" />
      <geometry>
        <mesh filename="../assemblies/right_3R+RH5_leg/meshes/right_ball_joint_ball_2_visual.stl" />
      </geometry>
      <material name="ball_joint_ball_2_material">
        <color rgba="0.3291302810242056065 0.44310466418644928188 0.69204871161977121741 1.0" />
      </material>
    </visual>
    <inertial>
      <origin xyz="-6.395633123682807487e-18 -0.0010308669810016493455 -2.1718848700189737814e-18" rpy="0 0 0" />
      <mass value="4.4053796295264630609e-05" />
      <inertia ixx="3.1285011349692820187e-10" ixy="1.9037656967091037146e-25" ixz="1.1446951858299053379e-24" iyy="6.2569568612796238436e-11" iyz="-1.9178182979881764052e-25" izz="3.1285321460376478187e-10" />
    </inertial>
  </link>

  <link name="12lf_4">
    <visual>
      <origin xyz="0 0 0" rpy="0 -0 0" />
      <geometry>
        <mesh filename="../assemblies/right_3R+RH5_leg/meshes/right_12lf_2_visual.stl" />
      </geometry>
      <material name="12lf_2_material">
        <color rgba="0.62004392100736027693 0.58836684613512635345 0.49897069021535683797 1.0" />
      </material>
    </visual>
    <inertial>
      <origin xyz="0.0049084207243634686568 -0.00013802439943656473497 -0.029947003577153203518" rpy="0 0 0" />
      <mass value="0.044782197696050358993" />
      <inertia ixx="1.5260128421317484346e-05" ixy="2.2955773686700811346e-08" ixz="-8.1364204009454104015e-08" iyy="1.8188469778957667164e-05" iyz="-5.5542240843571850581e-08" izz="5.149627390175211562e-06" />
    </inertial>
  </link>

  <link name="12lf_rod_4">
    <visual>
      <origin xyz="0 0 0" rpy="0 -0 0" />
      <geometry>
        <mesh filename="../assemblies/right_3R+RH5_leg/meshes/right_12lf_rod_2_visual.stl" />
      </geometry>
      <material name="12lf_rod_2_material">
        <color rgba="0.80250260812861884396 0.89340612183512713163 0.94491811293548189088 1.0" />
      </material>
    </visual>
    <inertial>
      <origin xyz="-6.3222084108049095957e-07 4.6933255050749711039e-07 -0.012893387334330222438" rpy="0 0 0" />
      <mass value="0.0025088292483592144512" />
      <inertia ixx="2.6944521128613451853e-07" ixy="7.1389570705527249389e-15" ixz="1.3562243151413031662e-11" iyy="2.6944520001670002143e-07" iyz="-1.0089988349642198099e-11" izz="1.7809843599861015564e-08" />
    </inertial>
  </link>

  <joint name="right_ank_act2" type="fixed">
    <origin xyz="2.2722093354597683312e-06 -2.3106516700011070498e-15 -0.074779996992745872975" rpy="3.1415926535897926719 1.5779374385287525465e-15 -2.2021168238262811556" />
    <parent link="12lf_4" />
    <child link="12lf_rod_4" />
    <axis xyz="0 0 1" />
    <limit effort="10" velocity="20" lower="0" upper="0.040000000000000000833" />
  </joint>

  <joint name="right_ank_B32" type="fixed">
    <origin xyz="-1.3877787807814456755e-17 -0.0064387505004004919051 3.4694469519536141888e-18" rpy="-1.57079632679489678 -0.17993145005742655629 -9.5188382896695163748e-16" />
    <parent link="ball_joint_ball_4" />
    <child link="12lf_4" />
    <axis xyz="0 0 1" />
    <limit effort="10" velocity="20" lower="-0.785398163397448279" upper="0.785398163397448279" />
  </joint>

  <joint name="right_ank_B22" type="fixed">
    <origin xyz="-3.4694469519536141888e-18 0 -0.01150000000000000154" rpy="-1.5707963267948972241 -1.5664376509754736055 -1.5707963267954201392" />
    <parent link="ball_joint_container_4" />
    <child link="ball_joint_ball_4" />
    <axis xyz="0 0 1" />
    <limit effort="10" velocity="20" lower="-0.785398163397448279" upper="0.785398163397448279" />
  </joint>

  <joint name="right_ank_B12" type="fixed">
    <origin xyz="0.007999999999999972411 0.015000000000000041078 0.028299999999999964073" rpy="-1.570796326794911435 -1.5521341097221474925 1.5707963267949895947" />
    <parent link="right_calf_link" />
    <child link="ball_joint_container_4" />
    <axis xyz="0 0 1" />
    <limit effort="10" velocity="20" lower="-0.785398163397448279" upper="0.785398163397448279" />
  </joint>

  <joint name="right_knee" type="revolute">
    <origin xyz="-8.6240005279115787276e-15 -0.096000000000003332667 0.0105999999999985689" rpy="-1.540481569708491688e-15 6.7185500345545200678e-16 3.1415926535894529437" />
    <parent link="right_hip_pitch_link" />
    <child link="right_calf_link" />
    <axis xyz="0 0 1" />
    <limit effort="10" velocity="20" lower="-1.570796326794896558" upper="0" />
    <dynamics damping="1.142" />
  </joint>

  <joint name="right_hip_pitch" type="revolute">
    <origin xyz="-0.024000000716139988088 -0.01900000015244911189 -0.019000000152447529822" rpy="-1.5707963267949285324 -1.5707963267948303887 0" />
    <parent link="hip_roll_link_2" />
    <child link="right_hip_pitch_link" />
    <axis xyz="0 0 1" />
    <limit effort="10" velocity="20" lower="-1.570796326794896558" upper="1.570796326794896558" />
    <dynamics damping="1.286" />
  </joint>

  <joint name="right_hip_roll" type="revolute">
    <origin xyz="0.018999999999999881567 -3.6837601416870012287e-18 -0.026000000000000002276" rpy="3.141592653589793116 -1.570796326794896336 0" />
    <parent link="hip_yaw_link_2" />
    <child link="hip_roll_link_2" />
    <axis xyz="0 0 1" />
    <limit effort="10" velocity="20" lower="-1.570796326794896558" upper="0.785398163397448279" />
    <dynamics damping="3.122" />
  </joint>


</robot>
